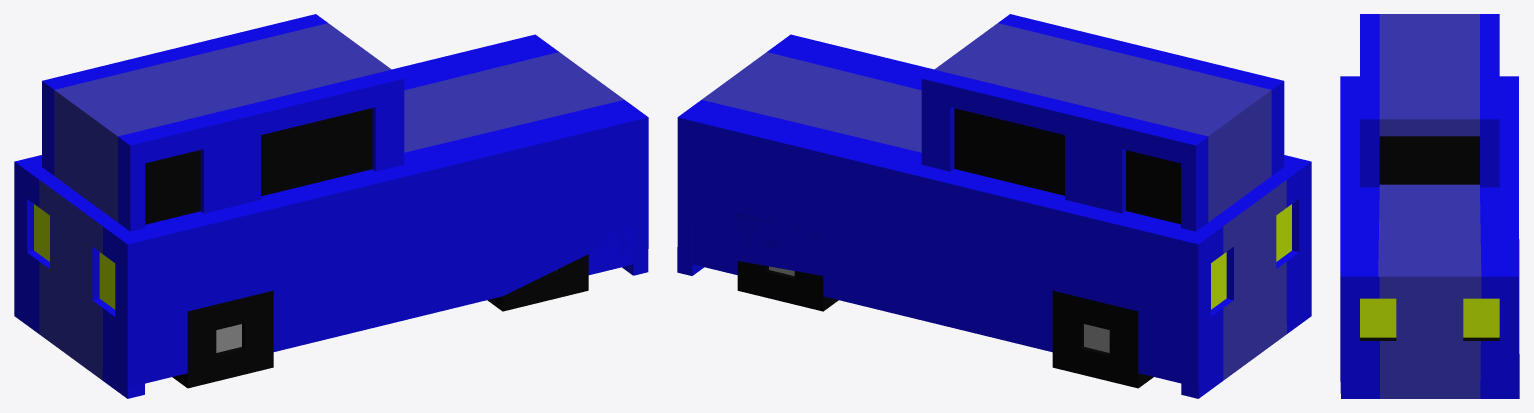
File: brokenBigCar.fbx
3 views of the same model, side by side, from view 1: azimuth 30°, elevation 25°; view 2: azimuth 150°, elevation 25°; view 3: azimuth 270°, elevation 25° (orthographic). The views are drawn at different scales.
Visible parts, largest first — view 1: Cube; view 2: Cube; view 3: Cube.
Boxes of the visible parts, box(x1,y1,x2,y2) form: Cube: box(14, 14, 648, 398); Cube: box(677, 14, 1311, 398); Cube: box(1340, 14, 1519, 398).
Bounding box in the file's own units: 6243 × 2804 × 2355.
